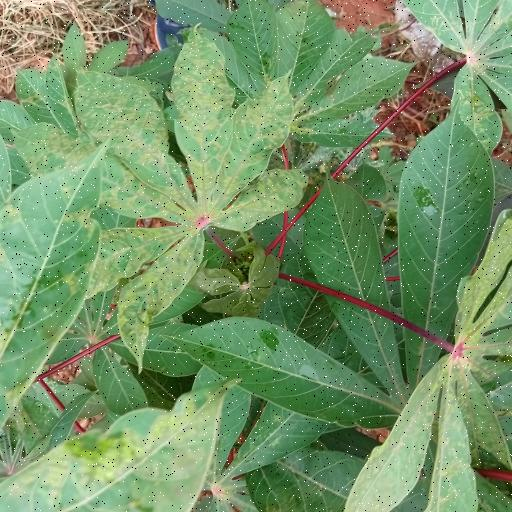Cassava_Healthy: (0, 38, 301, 353)
